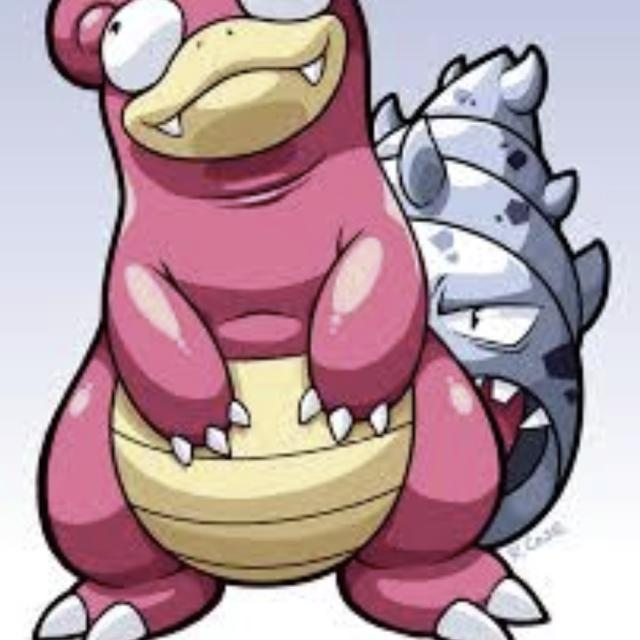Slowbro: (9, 0, 592, 597)
